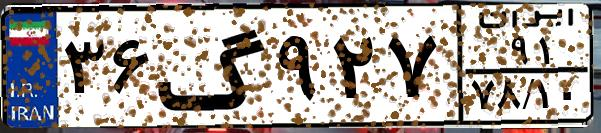0: (560, 70, 590, 125)
1: (537, 27, 568, 80), (535, 70, 560, 125)
2: (330, 28, 385, 110)
3: (57, 26, 110, 100)
6: (110, 28, 156, 98)
7: (385, 28, 445, 110), (470, 70, 495, 125)
8: (495, 70, 520, 125)
9: (270, 28, 330, 110), (508, 27, 537, 80)
گ: (156, 12, 270, 120)
